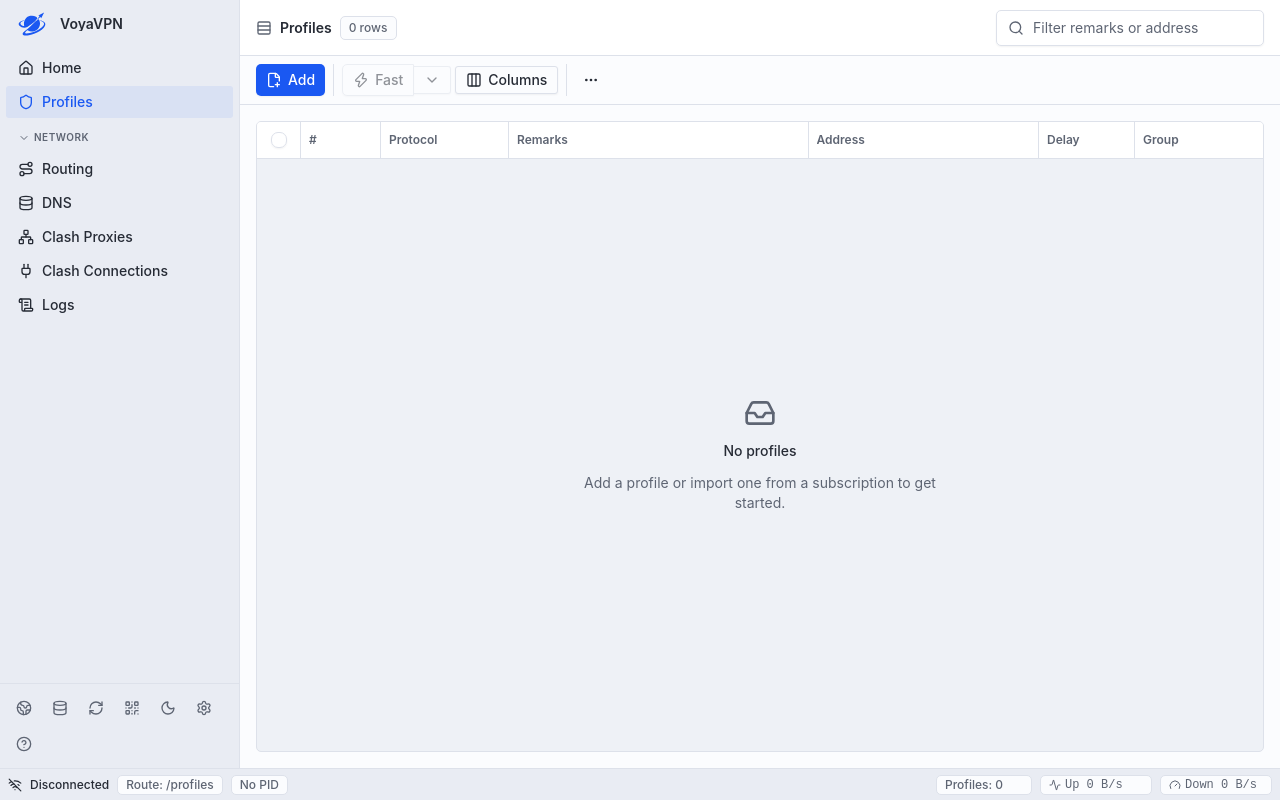
Test: App › clears selected Clash connection when it leaves and re-enters the filtered snapshot
Click the tab "Clash Connections". click: (120, 271)
box: x1=6 y1=255 x2=233 y2=287
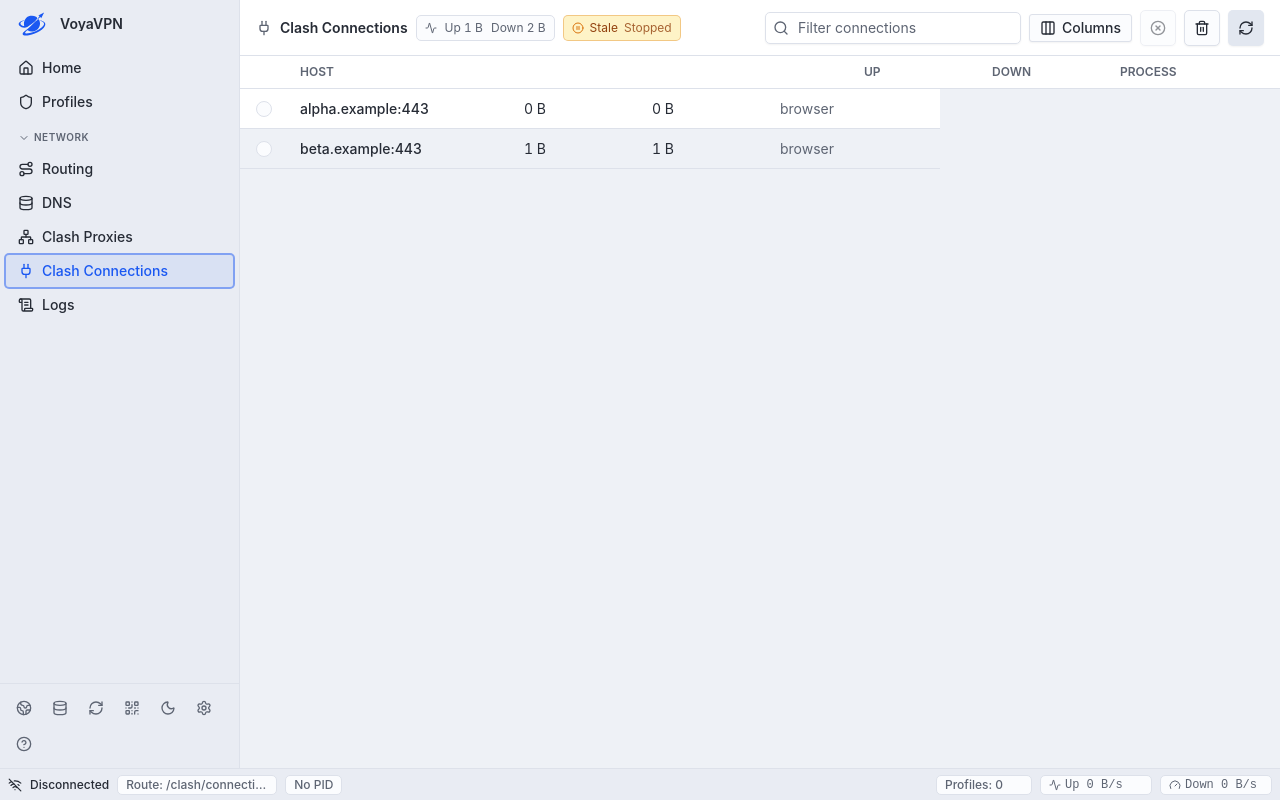
Result: the text "alpha.example:443" is shown
Click the text "alpha.example:443". click: (364, 108)
box: x1=300 y1=100 x2=429 y2=116
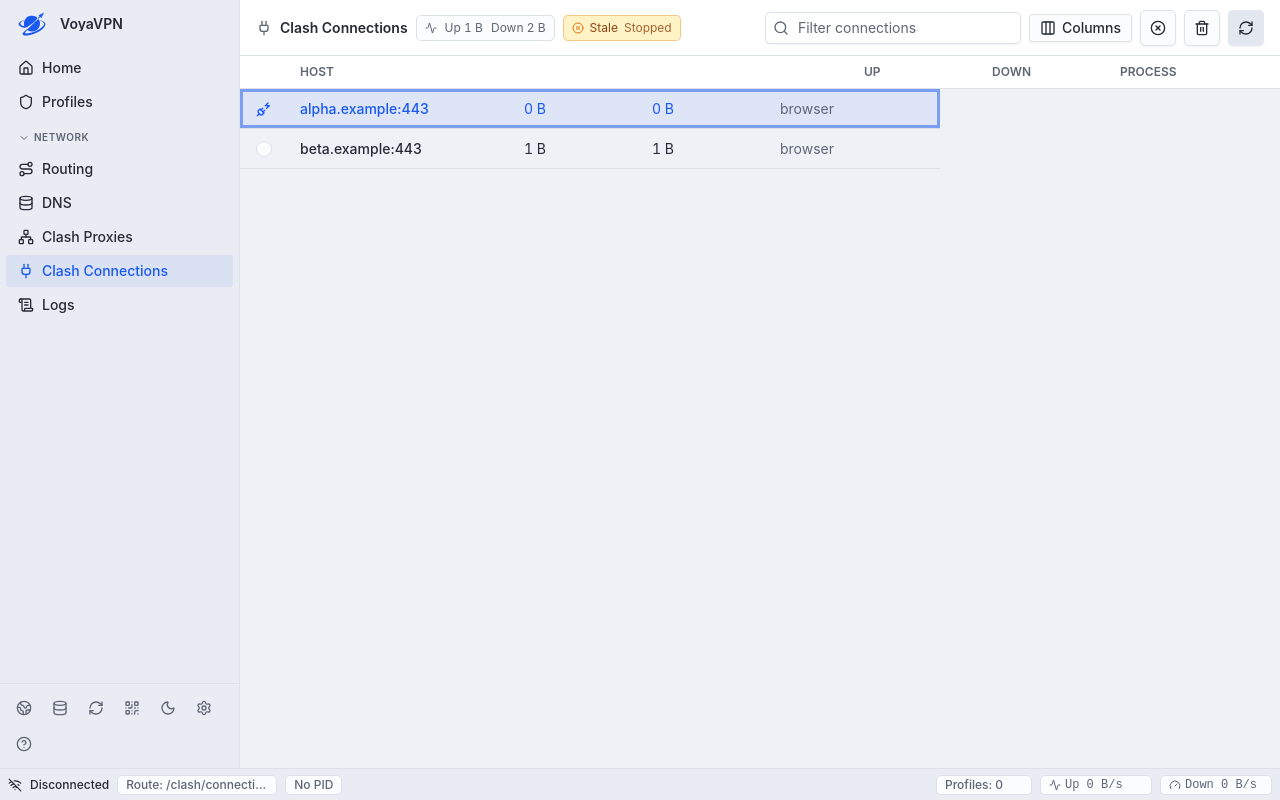
Result: the button named "Close" is enabled at x1=1140 y1=10 x2=1176 y2=46
Type "beta" into the field labelled "Filter connections". click: (893, 28)
box: x1=765 y1=12 x2=1021 y2=44
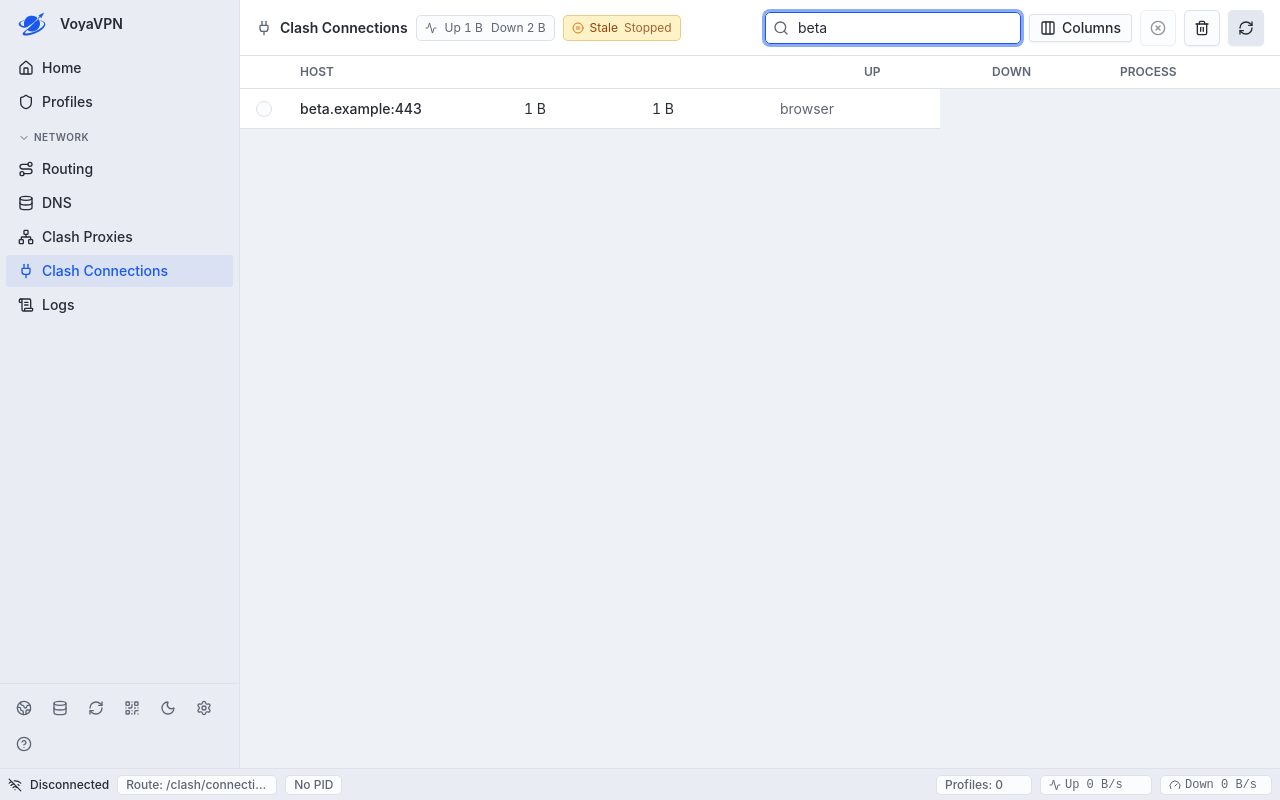
Result: the button "alpha.example:443" is gone
Result: the button named "Close" is disabled at x1=1140 y1=10 x2=1176 y2=46
Clear the field named "Filter connections". click: (893, 28)
box: x1=765 y1=12 x2=1021 y2=44
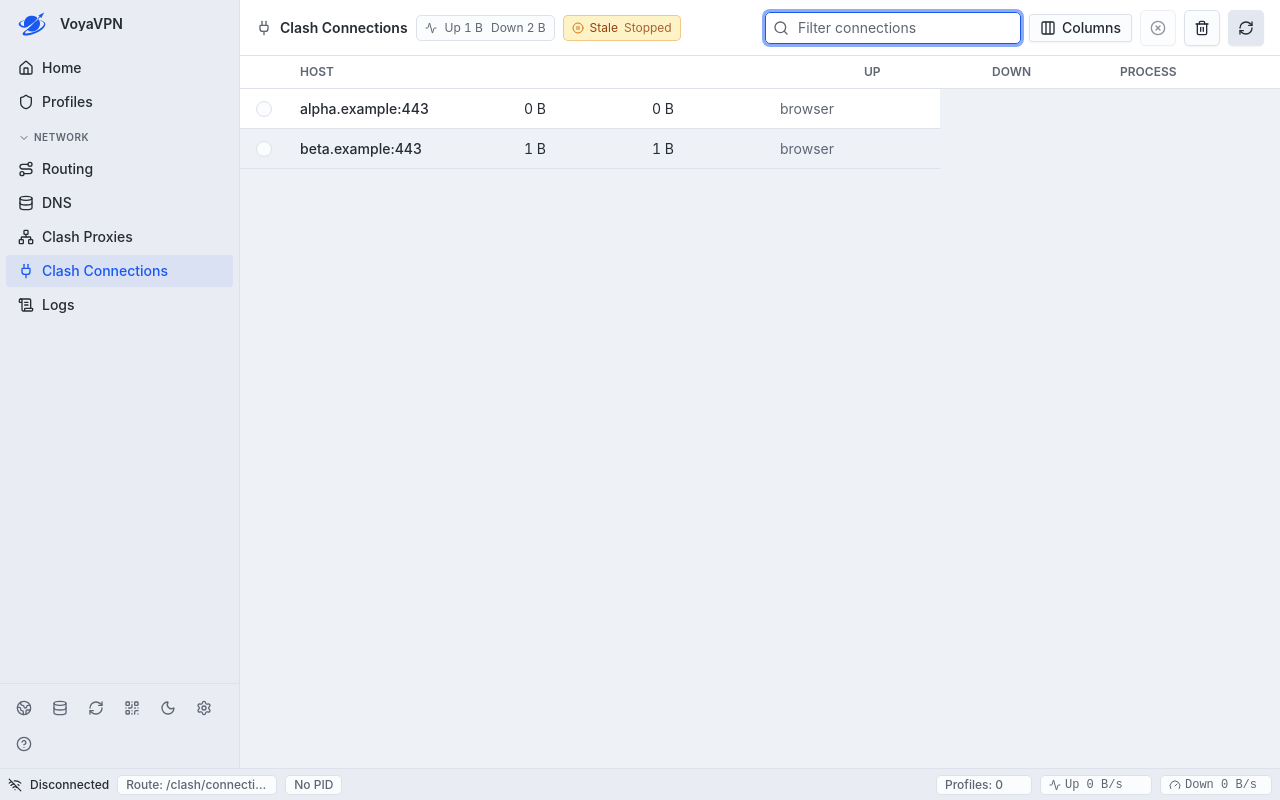
Result: the button named "Close" is disabled at x1=1140 y1=10 x2=1176 y2=46
Result: the text "alpha.example:443" is shown at x1=300 y1=100 x2=429 y2=116
